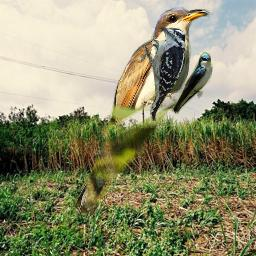Cuckoo: (70, 4, 212, 219)
Swallow: (171, 52, 213, 116)
Woodpecker: (141, 26, 191, 121)
